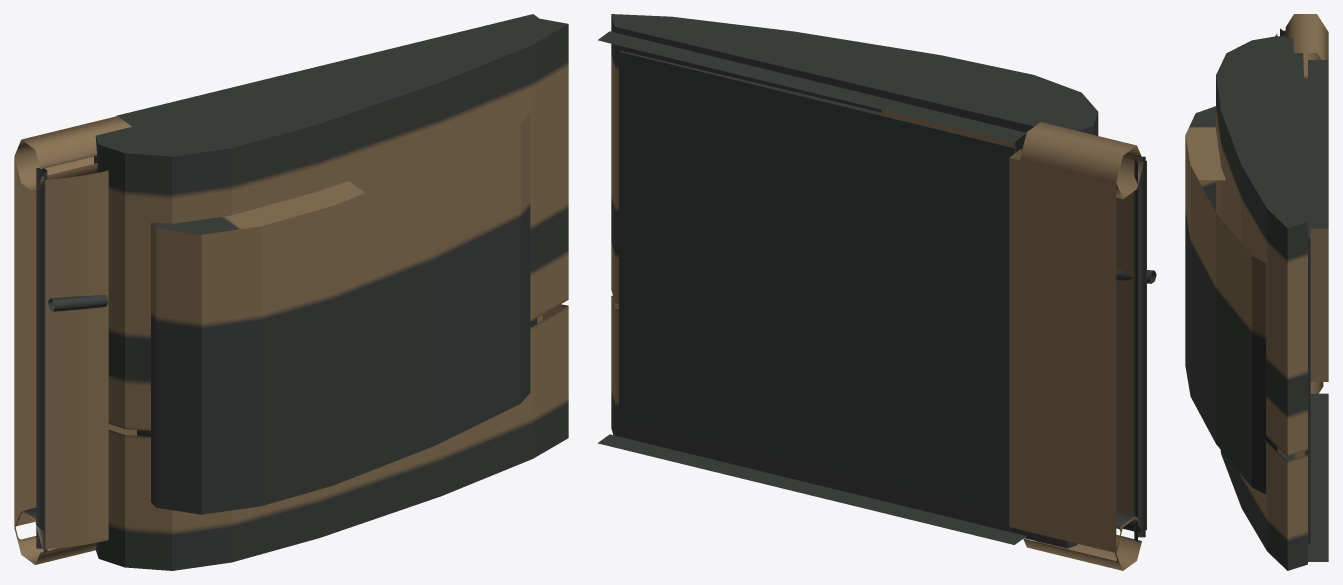
Rendered from section-5.obj.
3 renders of one model, left to right at view 1: azimuth 30°, elevation 25°; view 2: azimuth 150°, elevation 25°; view 3: azimuth 270°, elevation 25°, orthographic. The views are drawn at different scales.
Bounding box in the file's own units: 0.99 × 0.7419 × 0.28.
